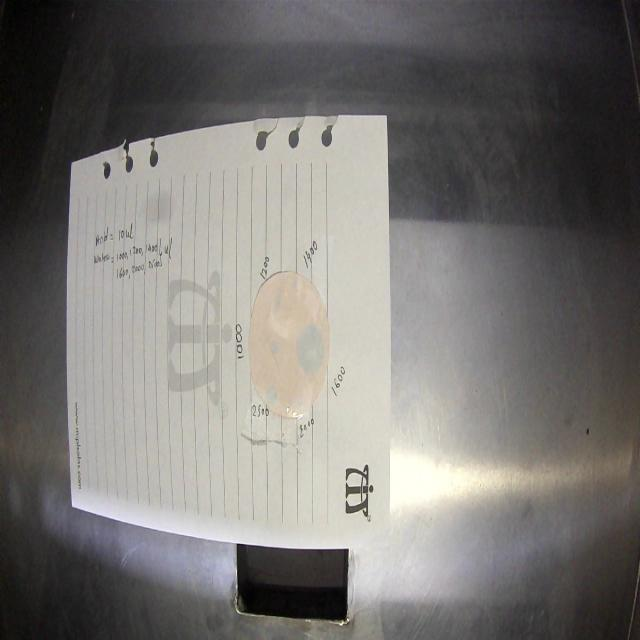BlueColor: (296, 324, 324, 376), (266, 386, 277, 404), (294, 396, 304, 412), (270, 340, 280, 356), (274, 294, 281, 311), (292, 276, 298, 292)
